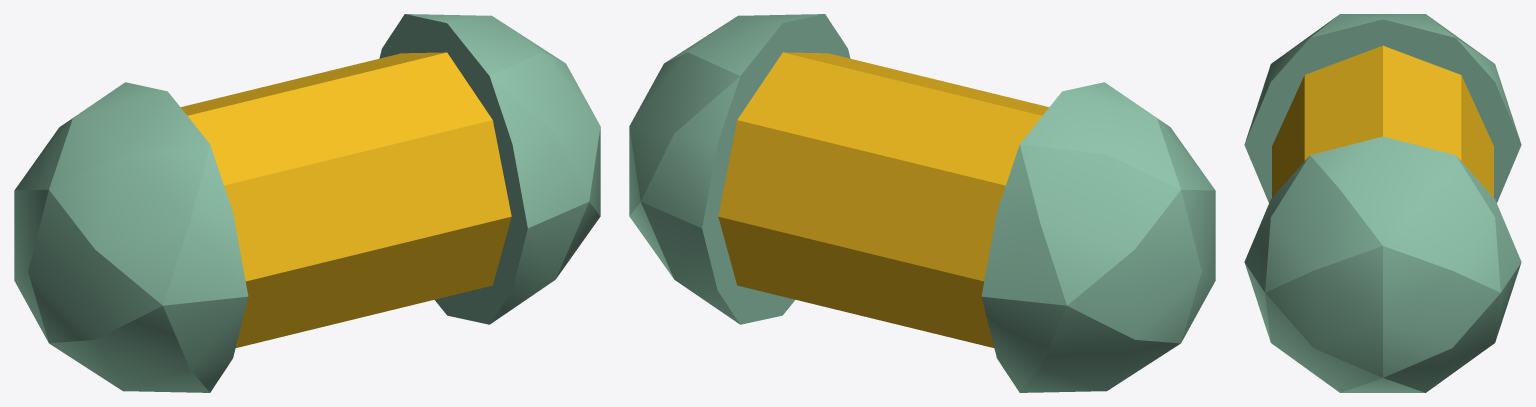
3 views of the same model, side by side, from view 1: azimuth 30°, elevation 25°; view 2: azimuth 150°, elevation 25°; view 3: azimuth 270°, elevation 25° (orthographic). The views are drawn at different scales.
Visible parts, largest first — view 1: icosphere_half (×2), cylinderVertex; view 2: icosphere_half (×2), cylinderVertex; view 3: icosphere_half (×2), cylinderVertex.
Part boxes in pixels (bbox=[...]): icosphere_half (×2): bbox=[14, 14, 600, 392]; cylinderVertex: bbox=[180, 52, 511, 347]; icosphere_half (×2): bbox=[629, 14, 1215, 392]; cylinderVertex: bbox=[718, 52, 1049, 347]; icosphere_half (×2): bbox=[1244, 14, 1521, 392]; cylinderVertex: bbox=[1272, 45, 1493, 197].
Bounding box in the file's own units: 20 × 10 × 10.
